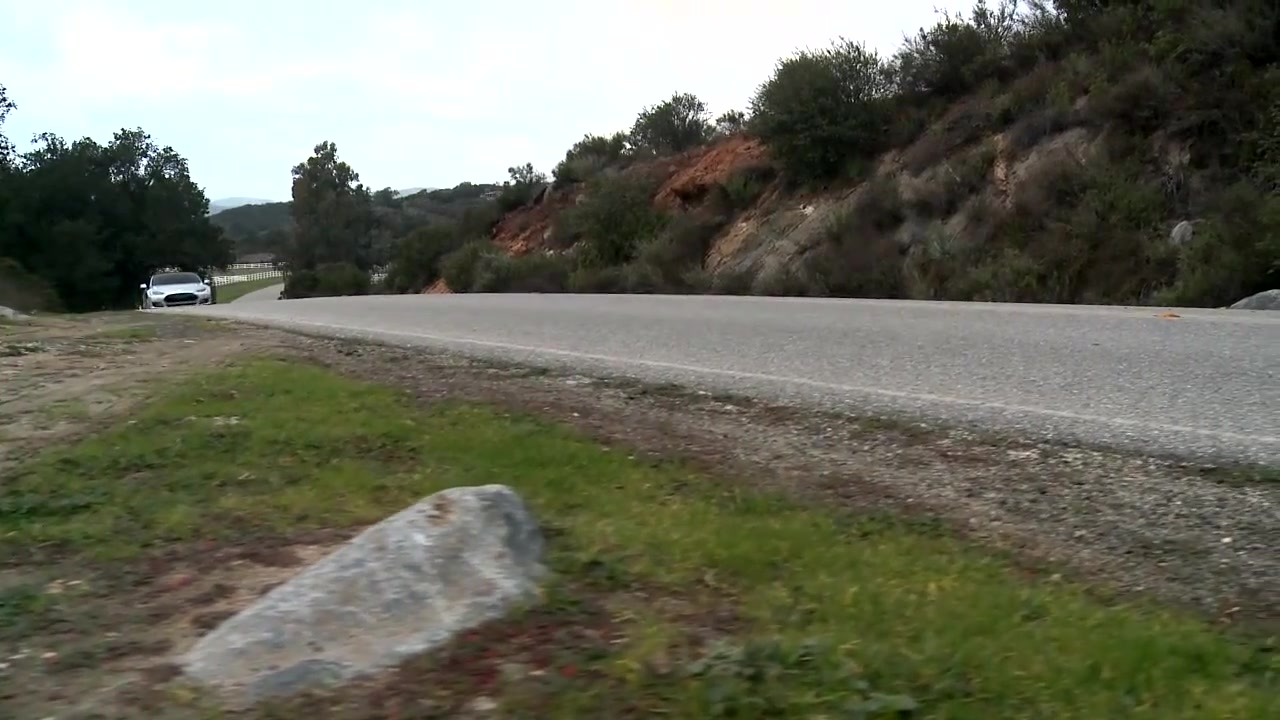car: (138, 269, 219, 312)
